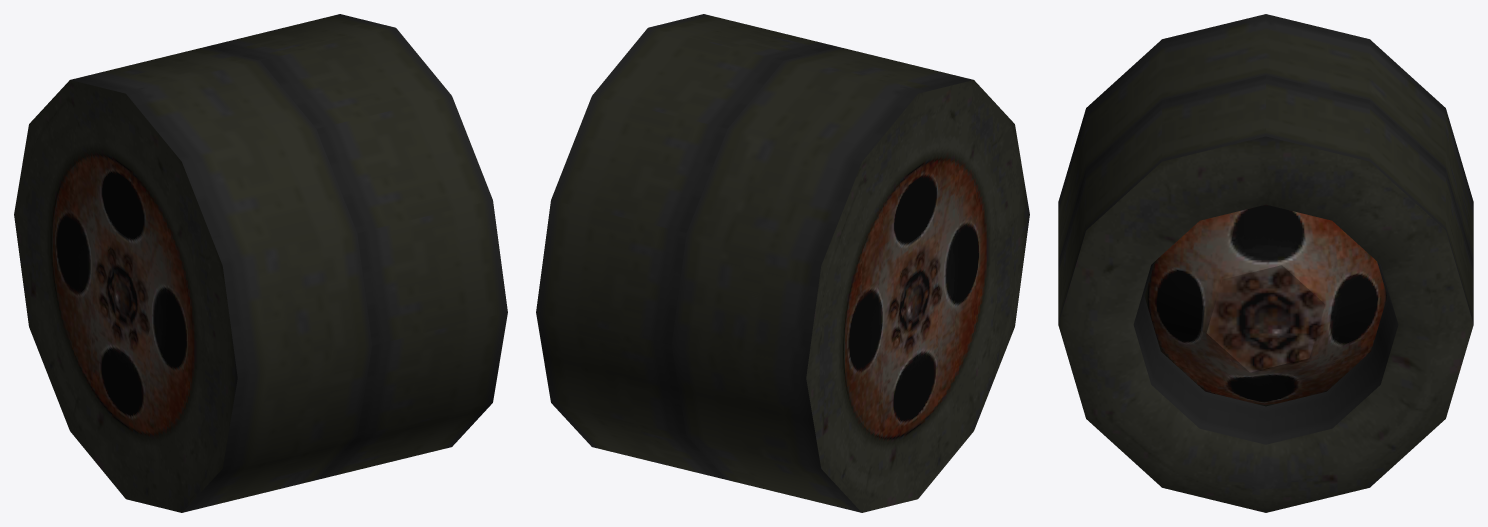
The model's file is rueda_tras_izq_mate.obj.
3 views of the same model, side by side, from view 1: azimuth 30°, elevation 25°; view 2: azimuth 150°, elevation 25°; view 3: azimuth 270°, elevation 25° (orthographic). The views are drawn at different scales.
Visible parts, largest first — view 1: mesh_4_; view 2: mesh_4_; view 3: mesh_4_.
Boxes of the visible parts, left/top/right/bottom form: mesh_4_: left=14, top=14, right=507, bottom=512; mesh_4_: left=536, top=14, right=1029, bottom=512; mesh_4_: left=1058, top=14, right=1473, bottom=512.
Size of the model in its own units: 4.58 by 6.29 by 6.29.
